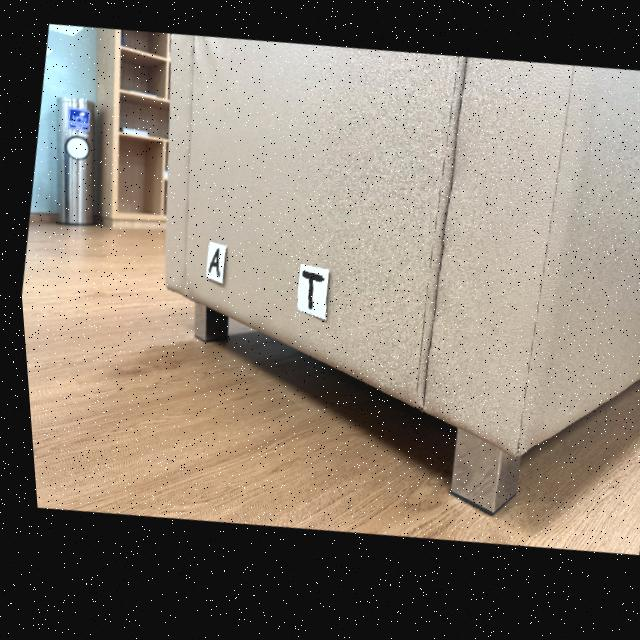A: (204, 253, 216, 280)
T: (297, 276, 318, 315)
